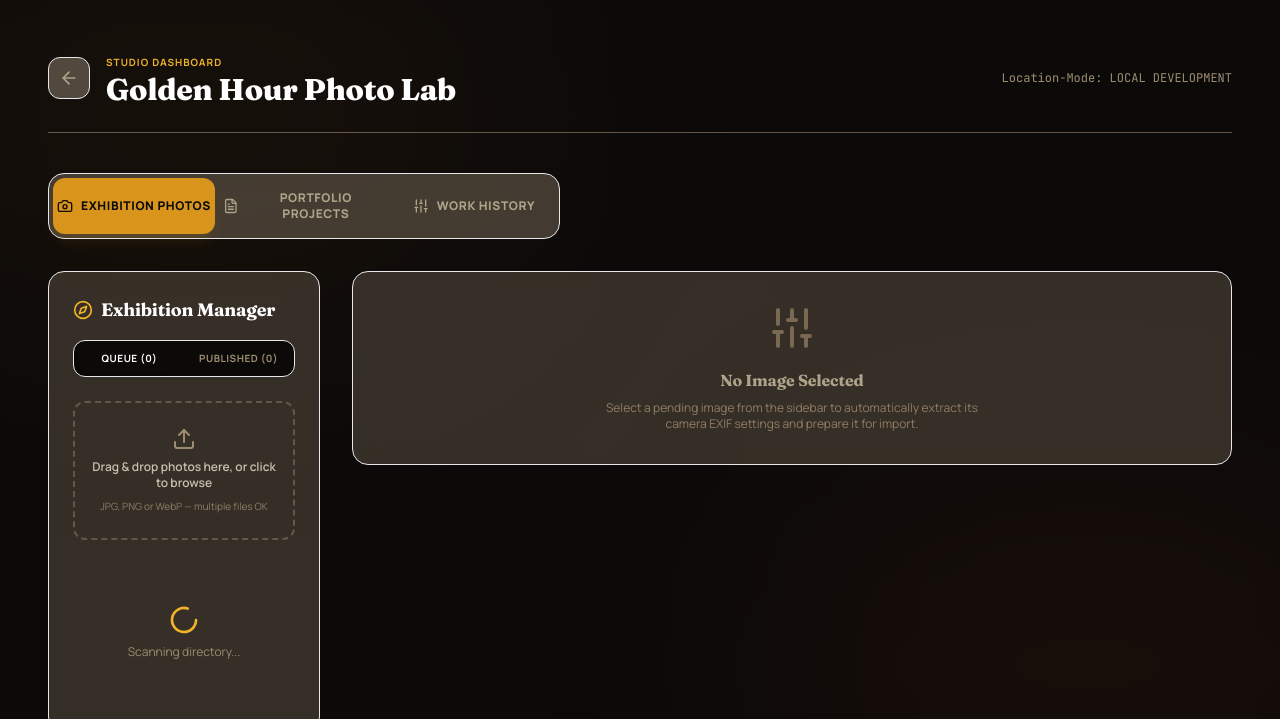
Test: AdminUploadPage › renders all three tabs and switches between them
The width and height of the screenshot is (1280, 719).
expect the button "Exhibition Photos" is shown: met, box [53,178,215,234]
expect the button "Work History" is shown: met, box [393,178,555,234]
Click the button "Portfolio Projects".
click(304, 206)  # box [223,178,385,234]
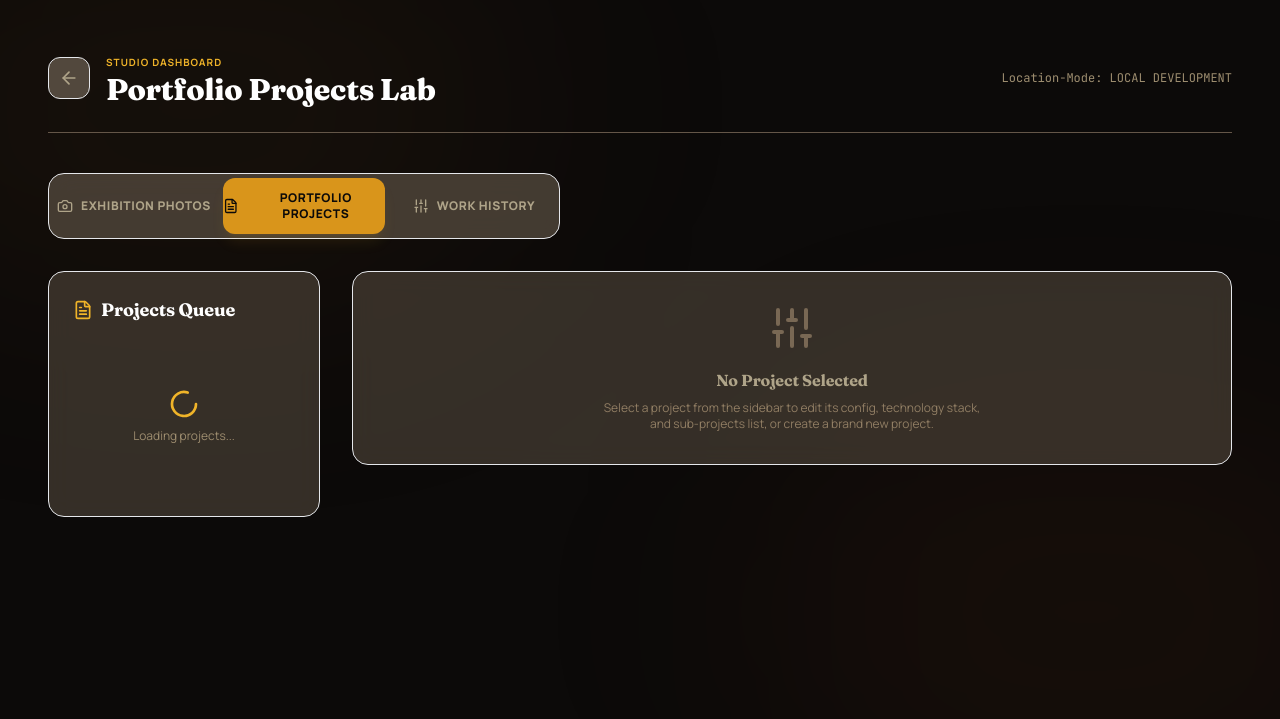
expect the heading "Projects Queue" is shown: met, box [73,298,235,321]
Click the button "Work History".
click(474, 206)  # box [393,178,555,234]
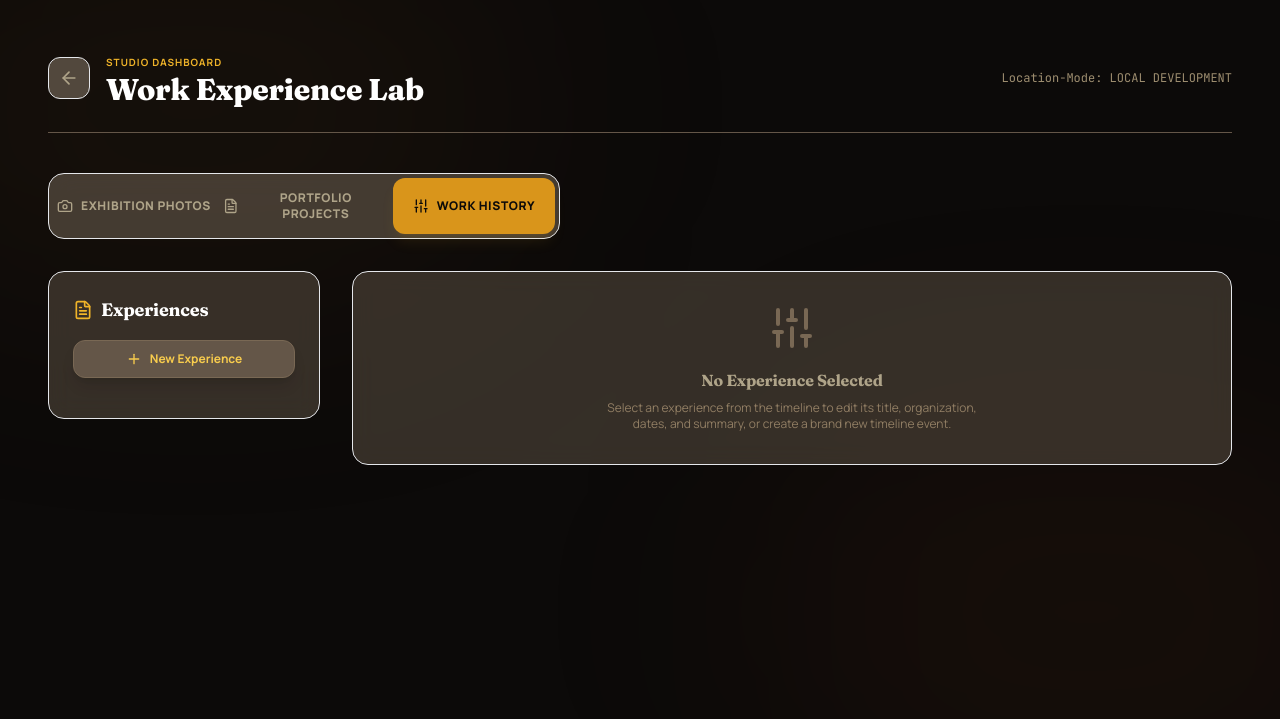
expect the heading "Experiences" is shown: met, box [73,298,208,321]
Click the button "Exhibition Photos".
click(134, 206)  # box [53,178,215,234]
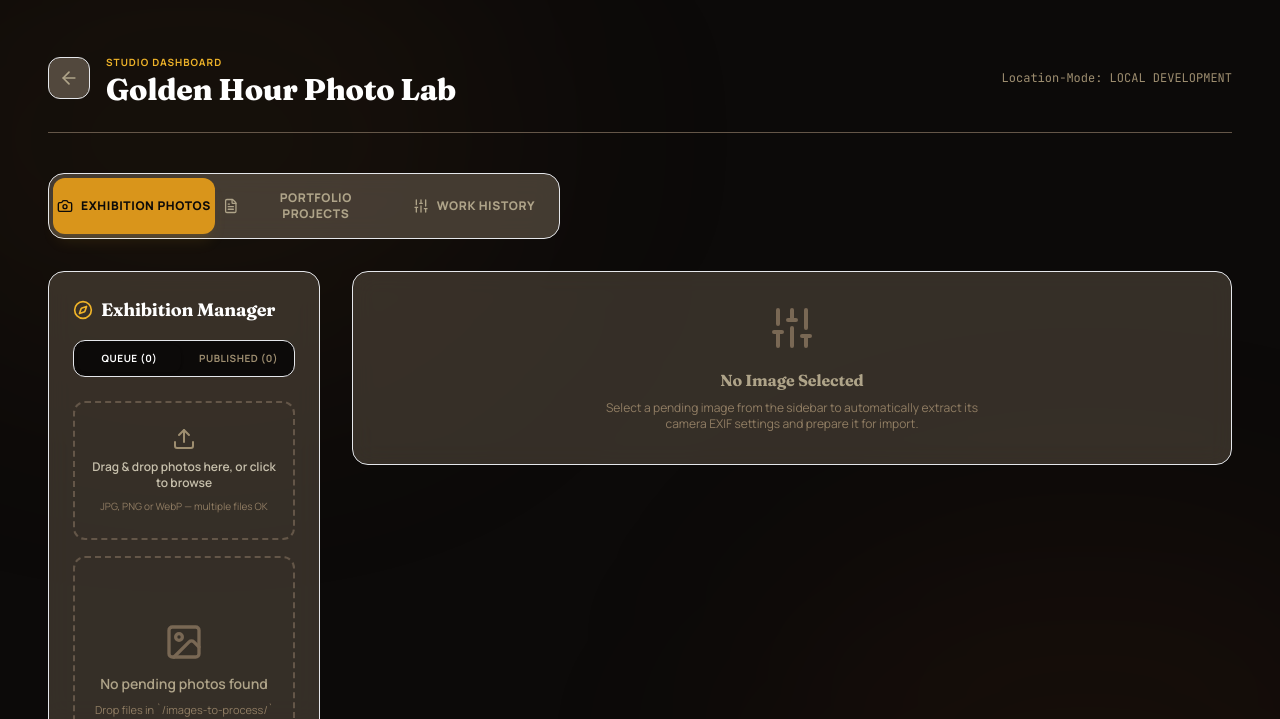
expect the text "No pending photos found" is shown: met, box [100,674,268,694]
